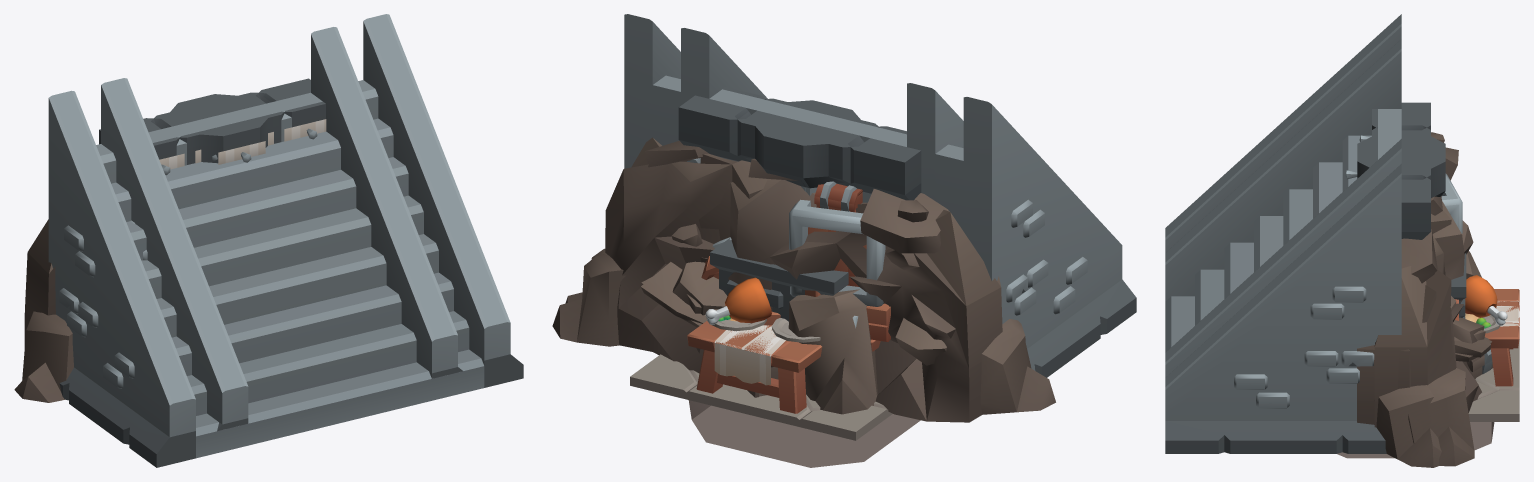
The model's file is dungeon-kit.glb.
3 views of the same model, side by side, from view 1: azimuth 30°, elevation 25°; view 2: azimuth 150°, elevation 25°; view 3: azimuth 270°, elevation 25° (orthographic). The views are drawn at different scales.
Visible parts, largest first — view 1: stairs_wide, stairs, rubble_large, wall_pillar, pillar_decorated, banner_triple_white, wall_arched, wall, wall_broken, pillar, wall_cracked; view 2: rubble_large, stairs_wide, rubble_half, floor_tile_big_grate, table_long_decorated_A, wall_cracked, stairs, box_stacked, floor_foundation_allsides, wall_pillar, table_long_tablecloth_decorated_A, floor_tile_large (+6 smaller); view 3: stairs_wide, stairs, rubble_half, rubble_large, table_long_decorated_A, wall, floor_tile_big_grate, wall_pillar, wall_half, box_stacked, pillar, pillar_decorated (+3 smaller).
Boxes of the visible parts, bbox=[...] form: stairs_wide: bbox=[48, 14, 523, 467]; stairs: bbox=[101, 27, 462, 431]; rubble_large: bbox=[14, 219, 73, 402]; wall_pillar: bbox=[153, 79, 325, 164]; pillar_decorated: bbox=[171, 104, 265, 164]; banner_triple_white: bbox=[159, 119, 326, 175]; wall_arched: bbox=[99, 78, 310, 145]; wall: bbox=[146, 80, 310, 145]; wall_broken: bbox=[144, 79, 310, 143]; pillar: bbox=[202, 96, 263, 148]; wall_cracked: bbox=[151, 91, 289, 135]; rubble_large: bbox=[565, 158, 1055, 422]; stairs_wide: bbox=[624, 14, 1136, 377]; rubble_half: bbox=[552, 137, 767, 373]; floor_tile_big_grate: bbox=[630, 354, 920, 467]; table_long_decorated_A: bbox=[687, 277, 822, 413]; wall_cracked: bbox=[678, 88, 913, 202]; stairs: bbox=[681, 28, 963, 200]; box_stacked: bbox=[747, 181, 885, 397]; floor_foundation_allsides: bbox=[710, 237, 848, 321]; wall_pillar: bbox=[706, 87, 905, 195]; table_long_tablecloth_decorated_A: bbox=[688, 325, 820, 385]; floor_tile_large: bbox=[630, 370, 892, 440]; stairs_wide: bbox=[1165, 14, 1401, 453]; stairs: bbox=[1165, 39, 1401, 377]; rubble_half: bbox=[1374, 211, 1490, 466]; rubble_large: bbox=[1357, 132, 1491, 467]; table_long_decorated_A: bbox=[1465, 275, 1519, 386]; wall: bbox=[1372, 102, 1430, 202]; floor_tile_big_grate: bbox=[1337, 340, 1519, 458]; wall_pillar: bbox=[1357, 106, 1445, 202]; wall_half: bbox=[1401, 171, 1430, 239]; box_stacked: bbox=[1441, 173, 1493, 378]; pillar: bbox=[1357, 134, 1445, 171]; pillar_decorated: bbox=[1345, 134, 1445, 179].
Size of the model in its own units: 8.13 by 6.3 by 6.
1 material, 1 textured.
